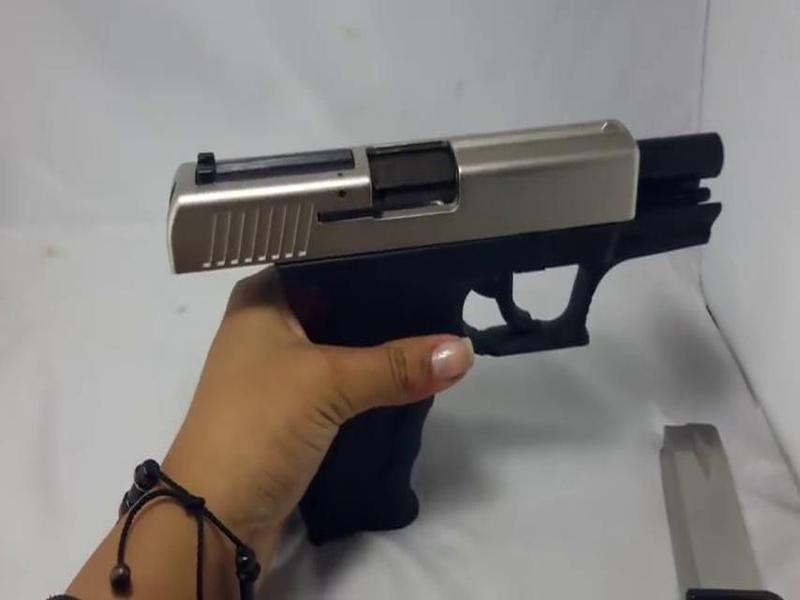Pistola: (155, 103, 733, 550)
